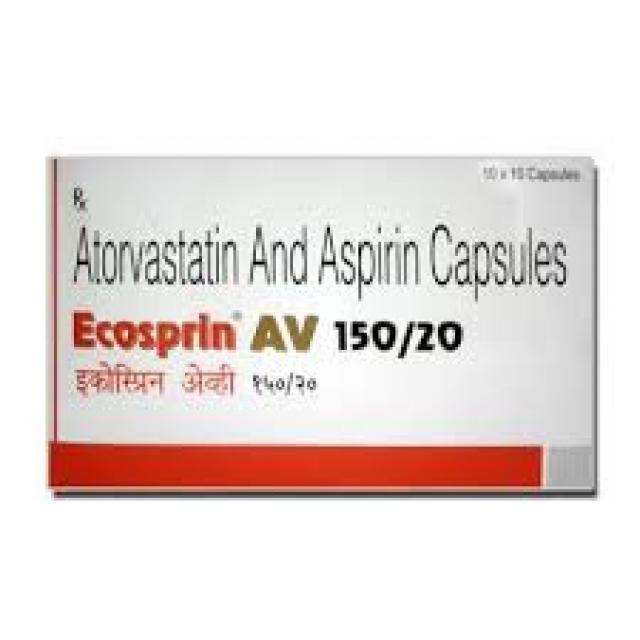authentic: (34, 151, 606, 508)
